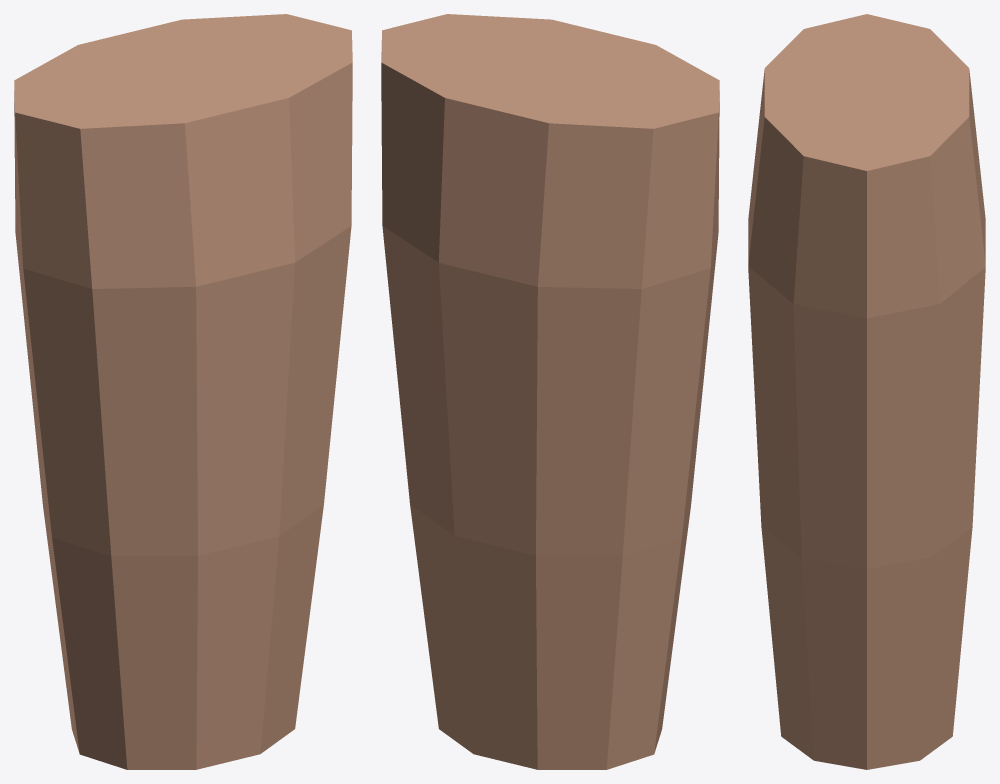
The model's file is wk_buck_lean_torso_v01.glb.
3 views of the same model, side by side, from view 1: azimuth 30°, elevation 25°; view 2: azimuth 150°, elevation 25°; view 3: azimuth 270°, elevation 25° (orthographic). The views are drawn at different scales.
Visible parts, largest first — view 1: GEO_Torso; view 2: GEO_Torso; view 3: GEO_Torso.
Boxes of the visible parts, x1,y1,x2,y2 form: GEO_Torso: (14, 14, 352, 769); GEO_Torso: (381, 14, 719, 769); GEO_Torso: (748, 14, 985, 769).
Bounding box in the file's own units: 0.5358 × 1 × 0.3424.
